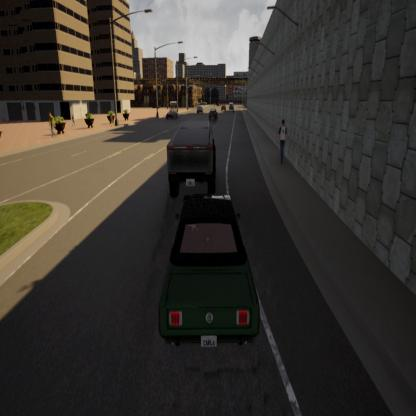Cars: (143, 195, 266, 363), (165, 120, 219, 199), (166, 108, 178, 121), (208, 107, 219, 119), (195, 103, 205, 115), (227, 99, 235, 112), (219, 101, 228, 112)
Pedestrian: (272, 113, 294, 174)
